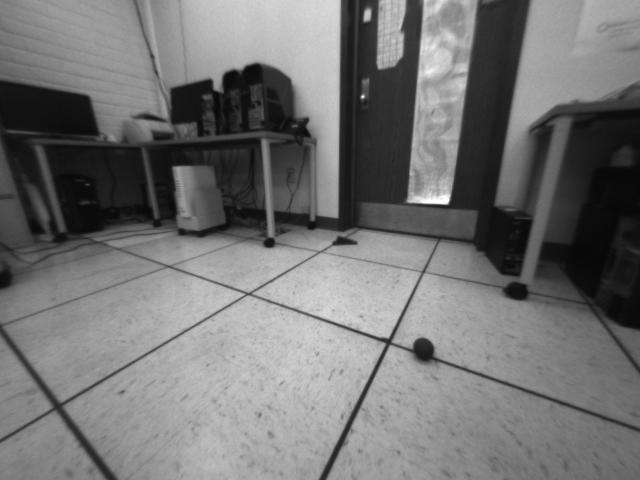dogtoy: (405, 334, 440, 366)
